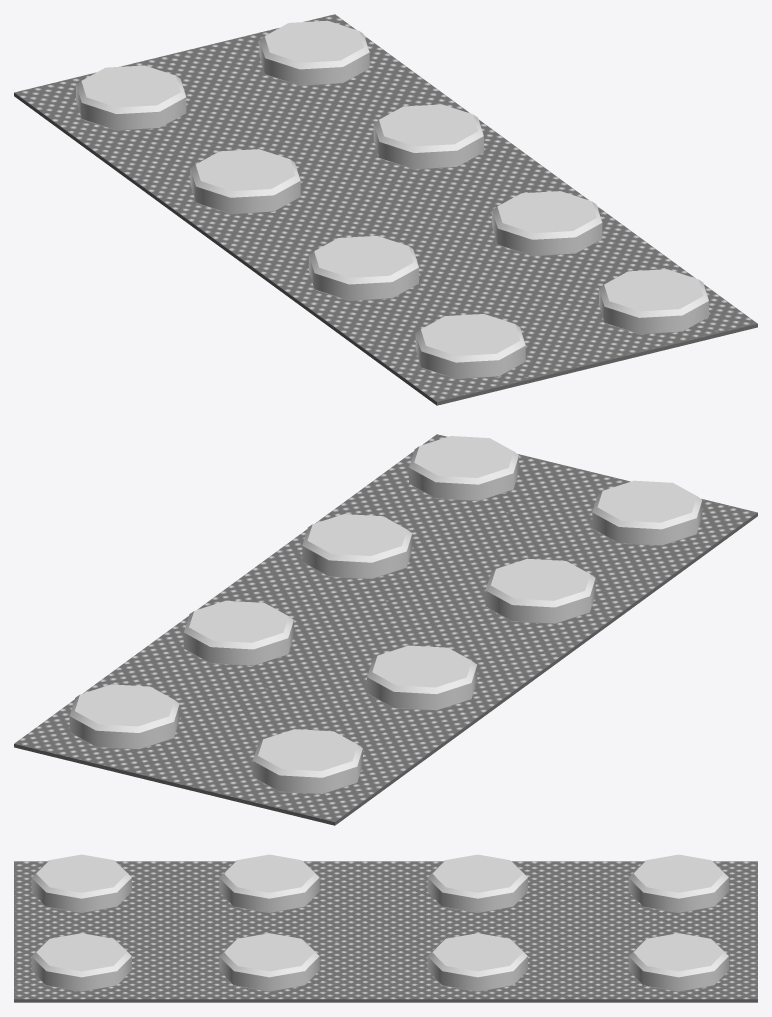
File: Drugs.FBX
3 renders of one model, top to bottom at view 1: azimuth 30°, elevation 25°; view 2: azimuth 150°, elevation 25°; view 3: azimuth 270°, elevation 25°, orthographic. The views are drawn at different scales.
Parts seen in each view (by area): view 1: Box001, ChamferCyl016, ChamferCyl006, ChamferCyl008, ChamferCyl014, ChamferCyl004, ChamferCyl009, ChamferCyl001, ChamferCyl012; view 2: Box001, ChamferCyl009, ChamferCyl014, ChamferCyl004, ChamferCyl008, ChamferCyl016, ChamferCyl006, ChamferCyl012, ChamferCyl001; view 3: Box001, ChamferCyl016, ChamferCyl014, ChamferCyl001, ChamferCyl006, ChamferCyl008, ChamferCyl004, ChamferCyl009, ChamferCyl012.
Part boxes in pixels (x1=…): Box001: x1=14, y1=14, x2=757, y2=405; ChamferCyl016: x1=76, y1=65, x2=186, y2=130; ChamferCyl006: x1=373, y1=104, x2=483, y2=169; ChamferCyl008: x1=259, y1=20, x2=369, y2=85; ChamferCyl014: x1=190, y1=149, x2=300, y2=214; ChamferCyl004: x1=492, y1=191, x2=602, y2=256; ChamferCyl009: x1=415, y1=314, x2=525, y2=378; ChamferCyl001: x1=599, y1=269, x2=708, y2=334; ChamferCyl012: x1=309, y1=236, x2=418, y2=300; Box001: x1=14, y1=434, x2=757, y2=825; ChamferCyl009: x1=592, y1=480, x2=702, y2=545; ChamferCyl014: x1=367, y1=645, x2=477, y2=710; ChamferCyl004: x1=302, y1=514, x2=412, y2=579; ChamferCyl008: x1=69, y1=684, x2=179, y2=749; ChamferCyl016: x1=252, y1=729, x2=362, y2=794; ChamferCyl006: x1=183, y1=600, x2=293, y2=665; ChamferCyl012: x1=485, y1=558, x2=595, y2=623; ChamferCyl001: x1=409, y1=436, x2=518, y2=501; Box001: x1=14, y1=861, x2=757, y2=1002; ChamferCyl016: x1=628, y1=854, x2=728, y2=913; ChamferCyl014: x1=427, y1=854, x2=527, y2=913; ChamferCyl001: x1=31, y1=933, x2=131, y2=991; ChamferCyl006: x1=427, y1=933, x2=527, y2=991; ChamferCyl008: x1=628, y1=933, x2=728, y2=991; ChamferCyl004: x1=219, y1=933, x2=319, y2=991; ChamferCyl009: x1=31, y1=854, x2=131, y2=913; ChamferCyl012: x1=219, y1=854, x2=319, y2=913.
Bounding box in the file's own units: 80.07 × 5.96 × 183.
Materials: 1 (1 with a texture image).
